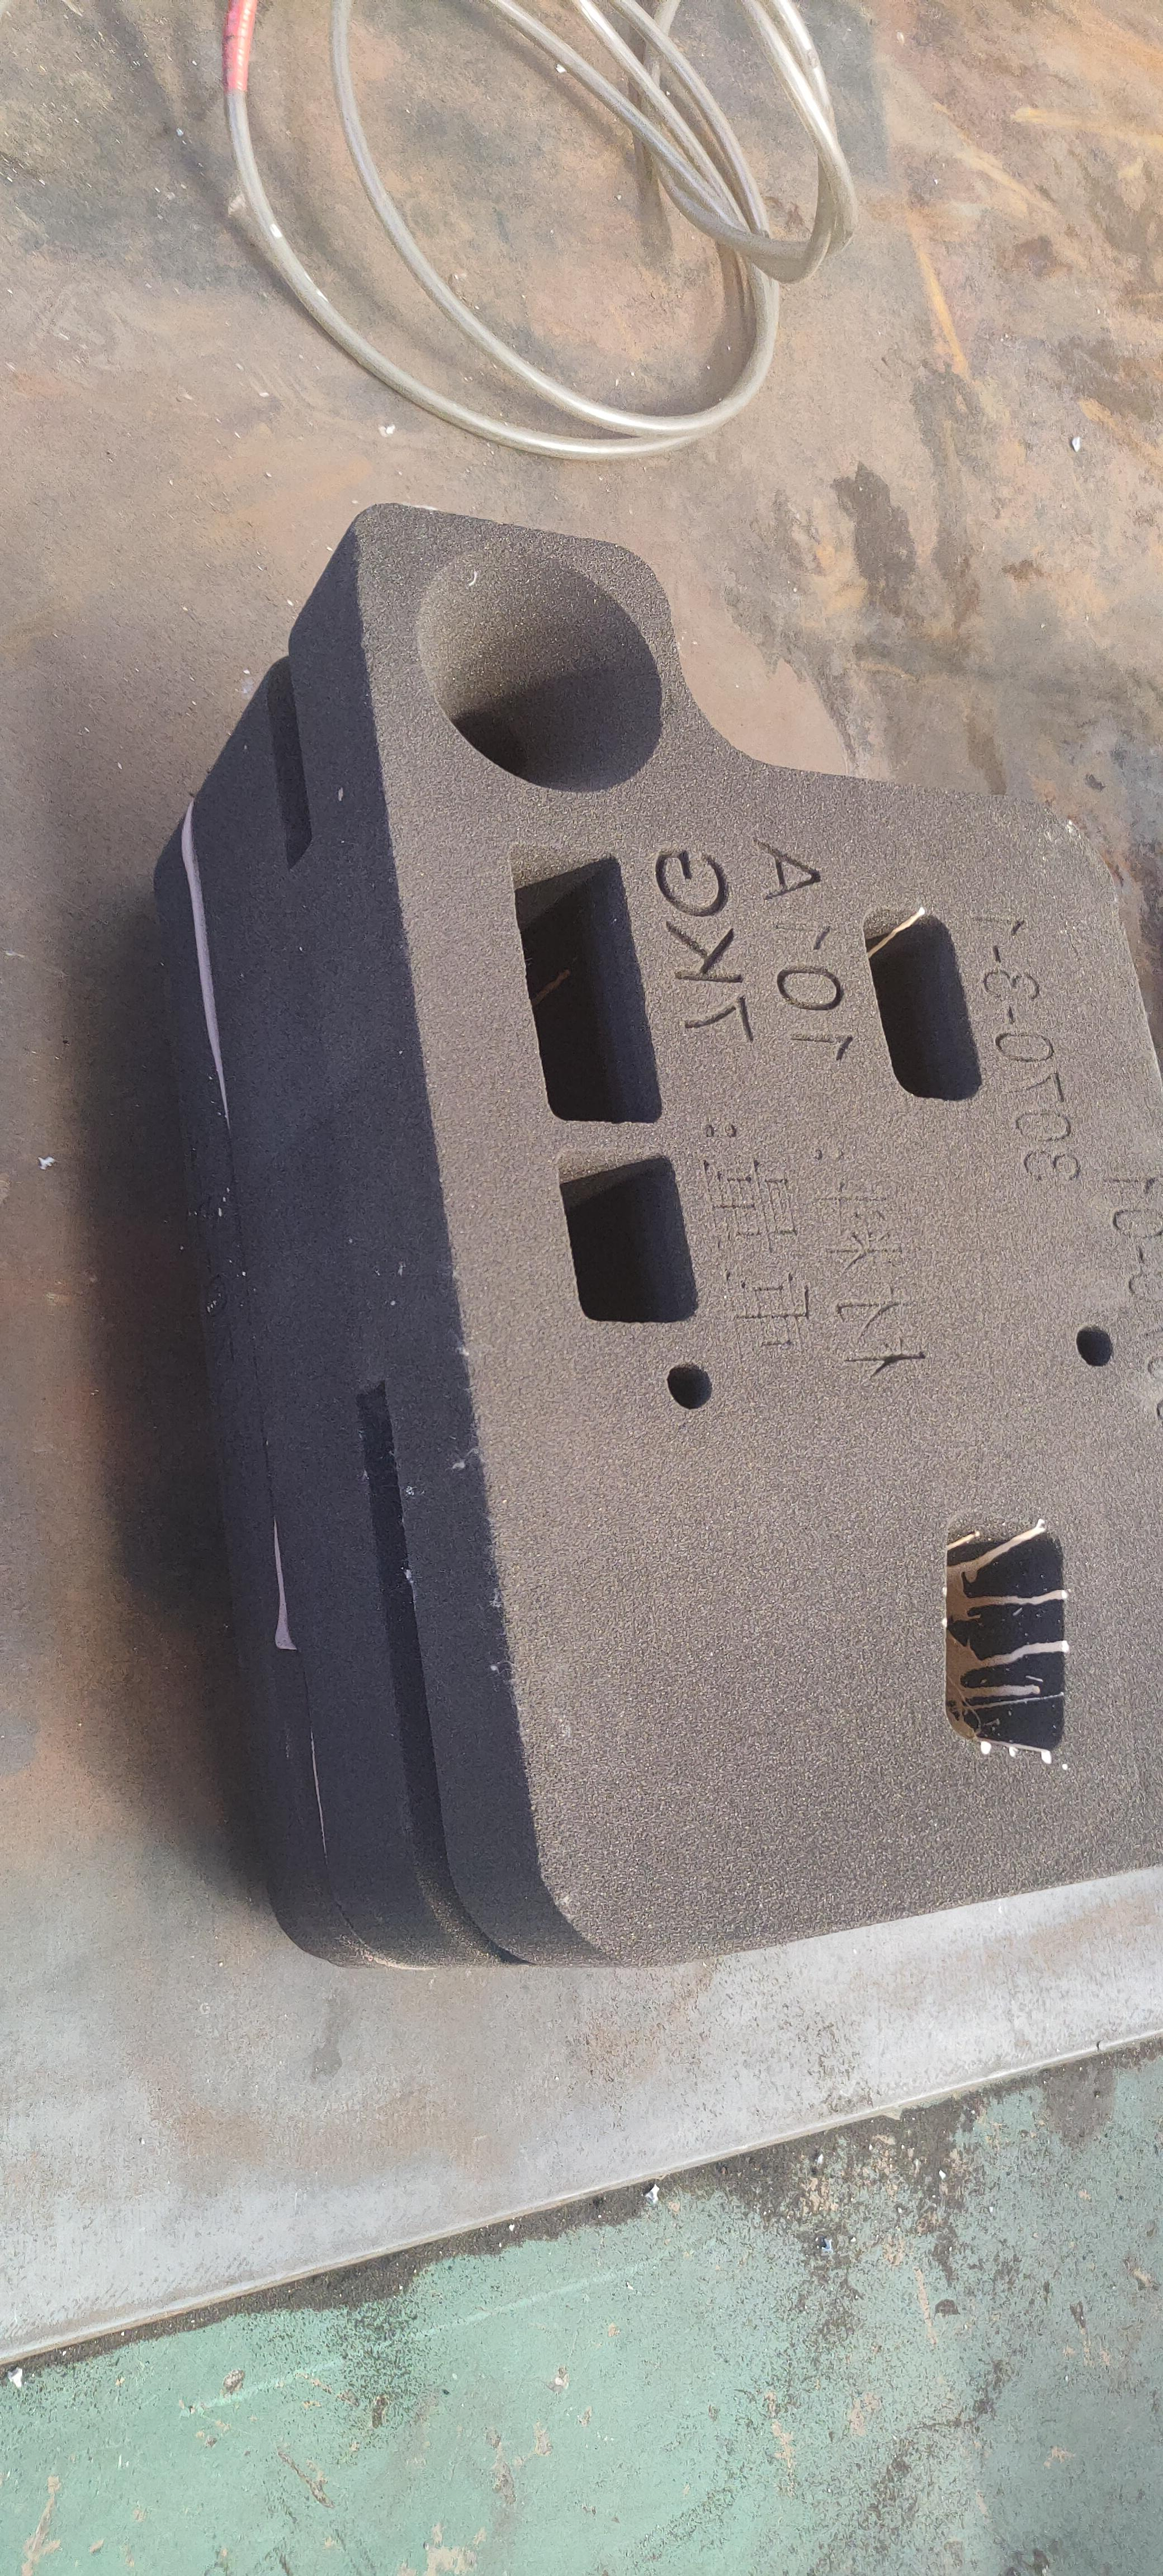pouring hole: (416, 539, 667, 798)
